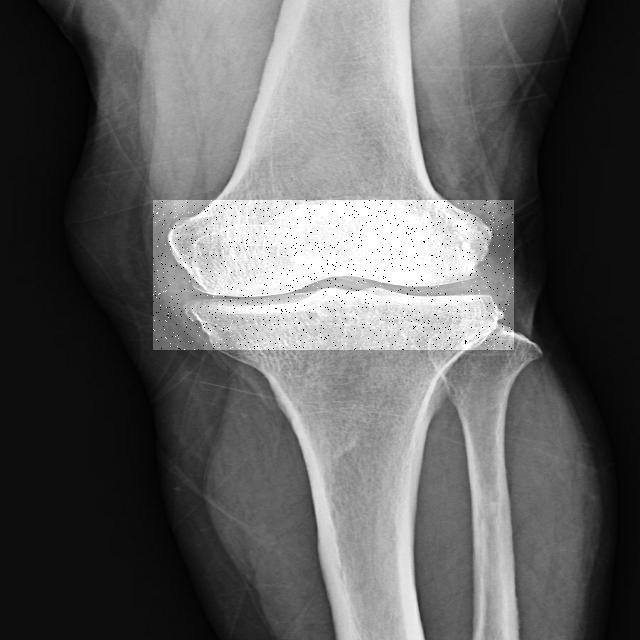osteo: (153, 200, 514, 350)
